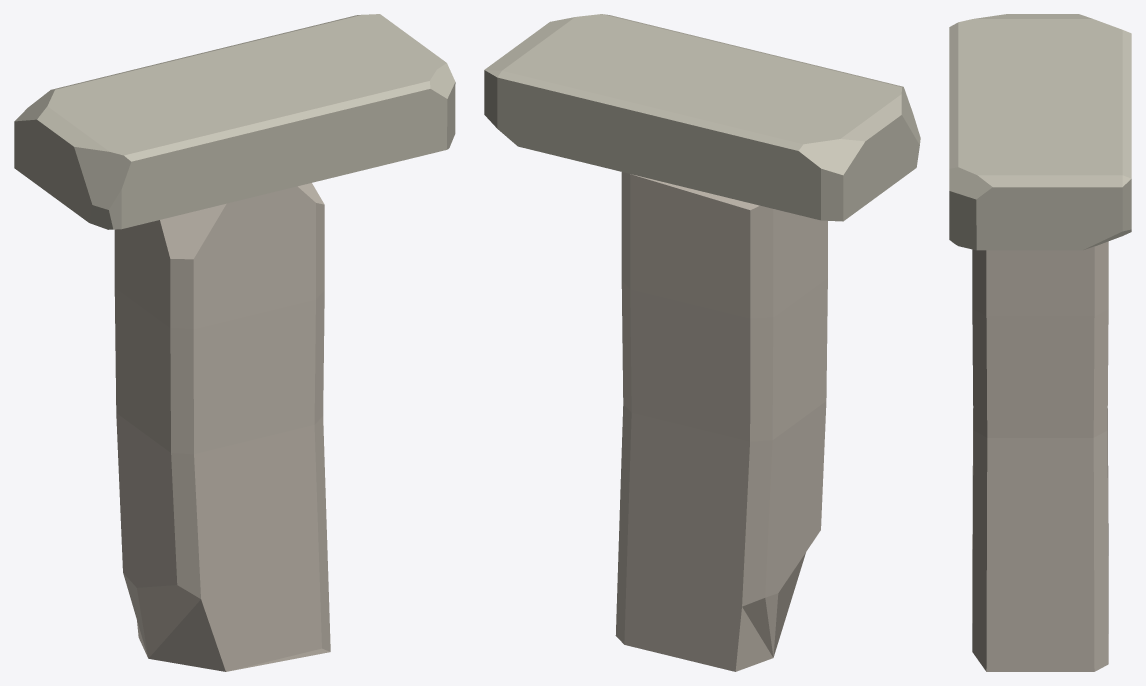
Rendered from Stonehenge_03.fbx.
3 renders of one model, left to right at view 1: azimuth 30°, elevation 25°; view 2: azimuth 150°, elevation 25°; view 3: azimuth 270°, elevation 25°, orthographic. The views are drawn at different scales.
Parts seen in each view (by area): view 1: Stonehenge_03; view 2: Stonehenge_03; view 3: Stonehenge_03.
Boxes of the visible parts, x1,y1,x2,y2 form: Stonehenge_03: (14,14,455,671); Stonehenge_03: (484,14,920,671); Stonehenge_03: (949,14,1131,671).
Bounding box in the file's own units: 4.5 × 6.6 × 2.
